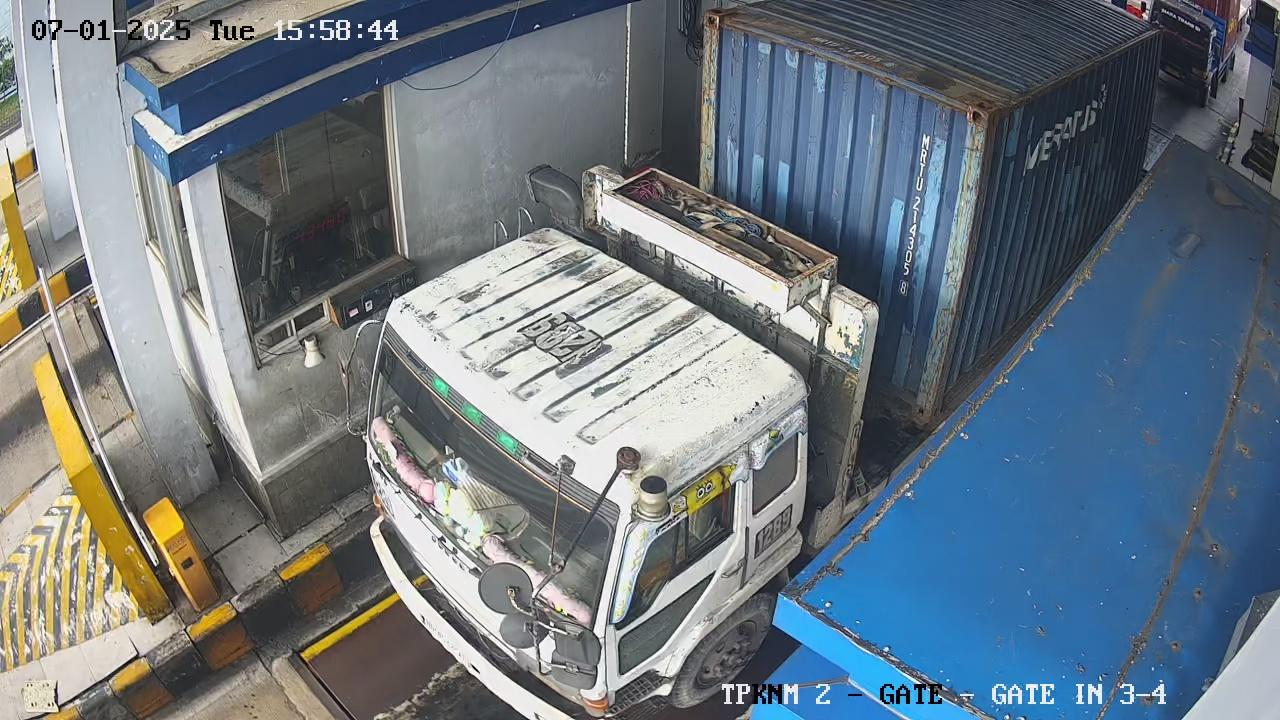Container_ID_Vertikal: (892, 131, 935, 297)
